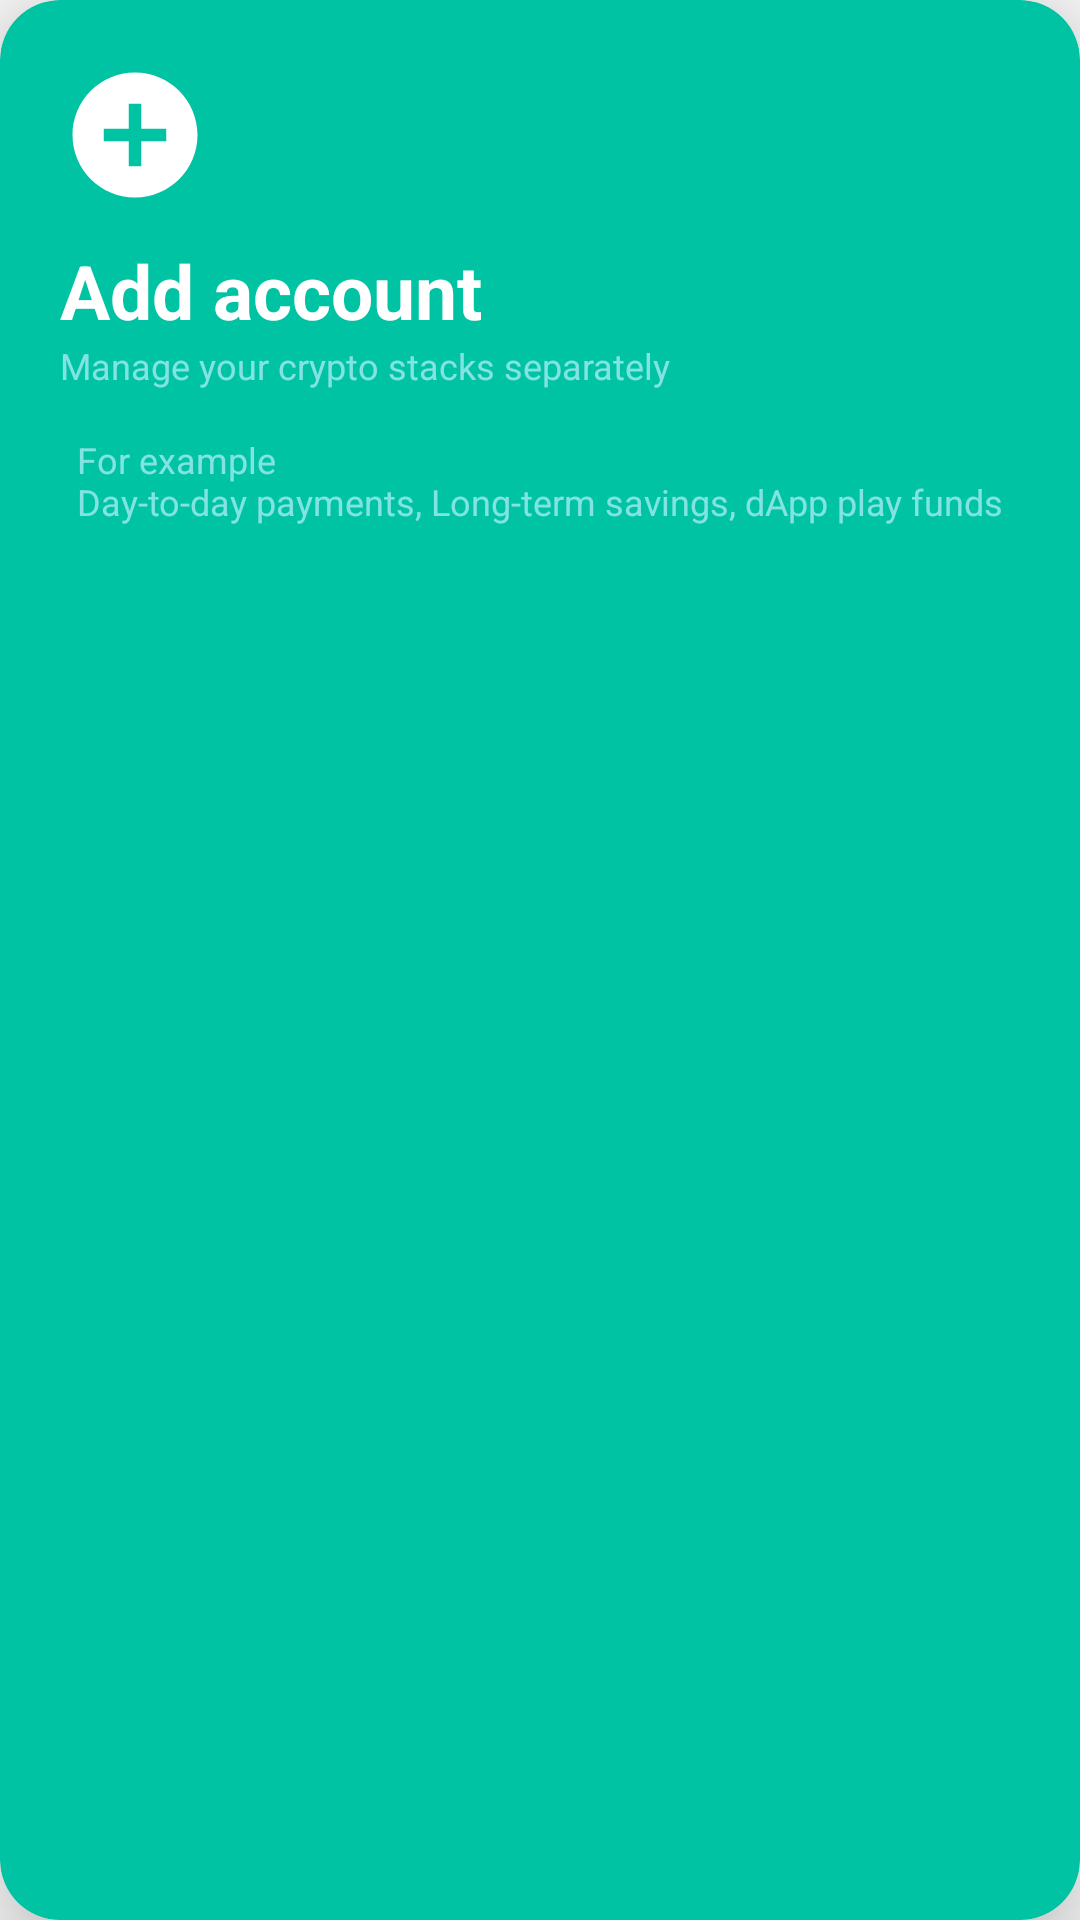

Icons on this 1080px×1920px Android screen, each with its box as (x1=x1, y1=y1, x2=x2, y2=y2):
Button to add new asset: (x1=72, y1=72, x2=198, y2=198)
